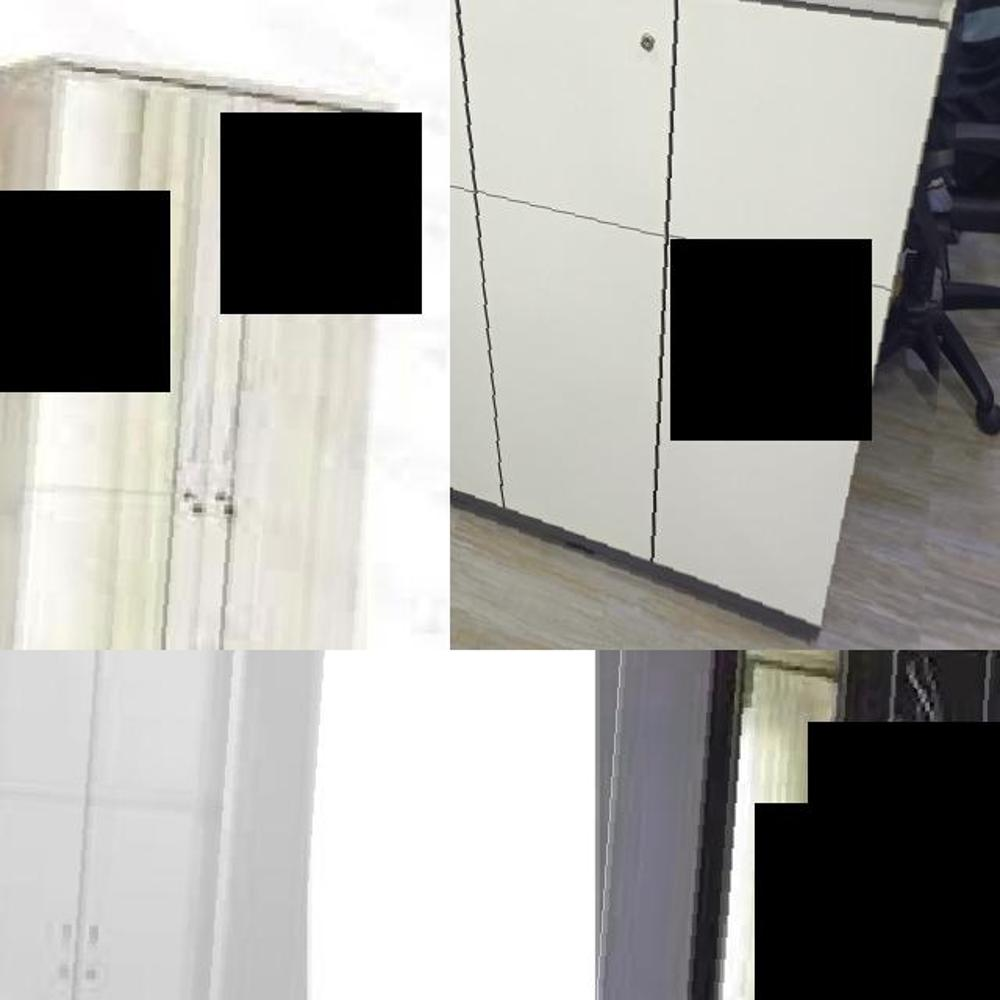cabinet: (450, 0, 961, 645), (0, 52, 388, 650), (578, 650, 1000, 1000), (0, 650, 350, 1000)
